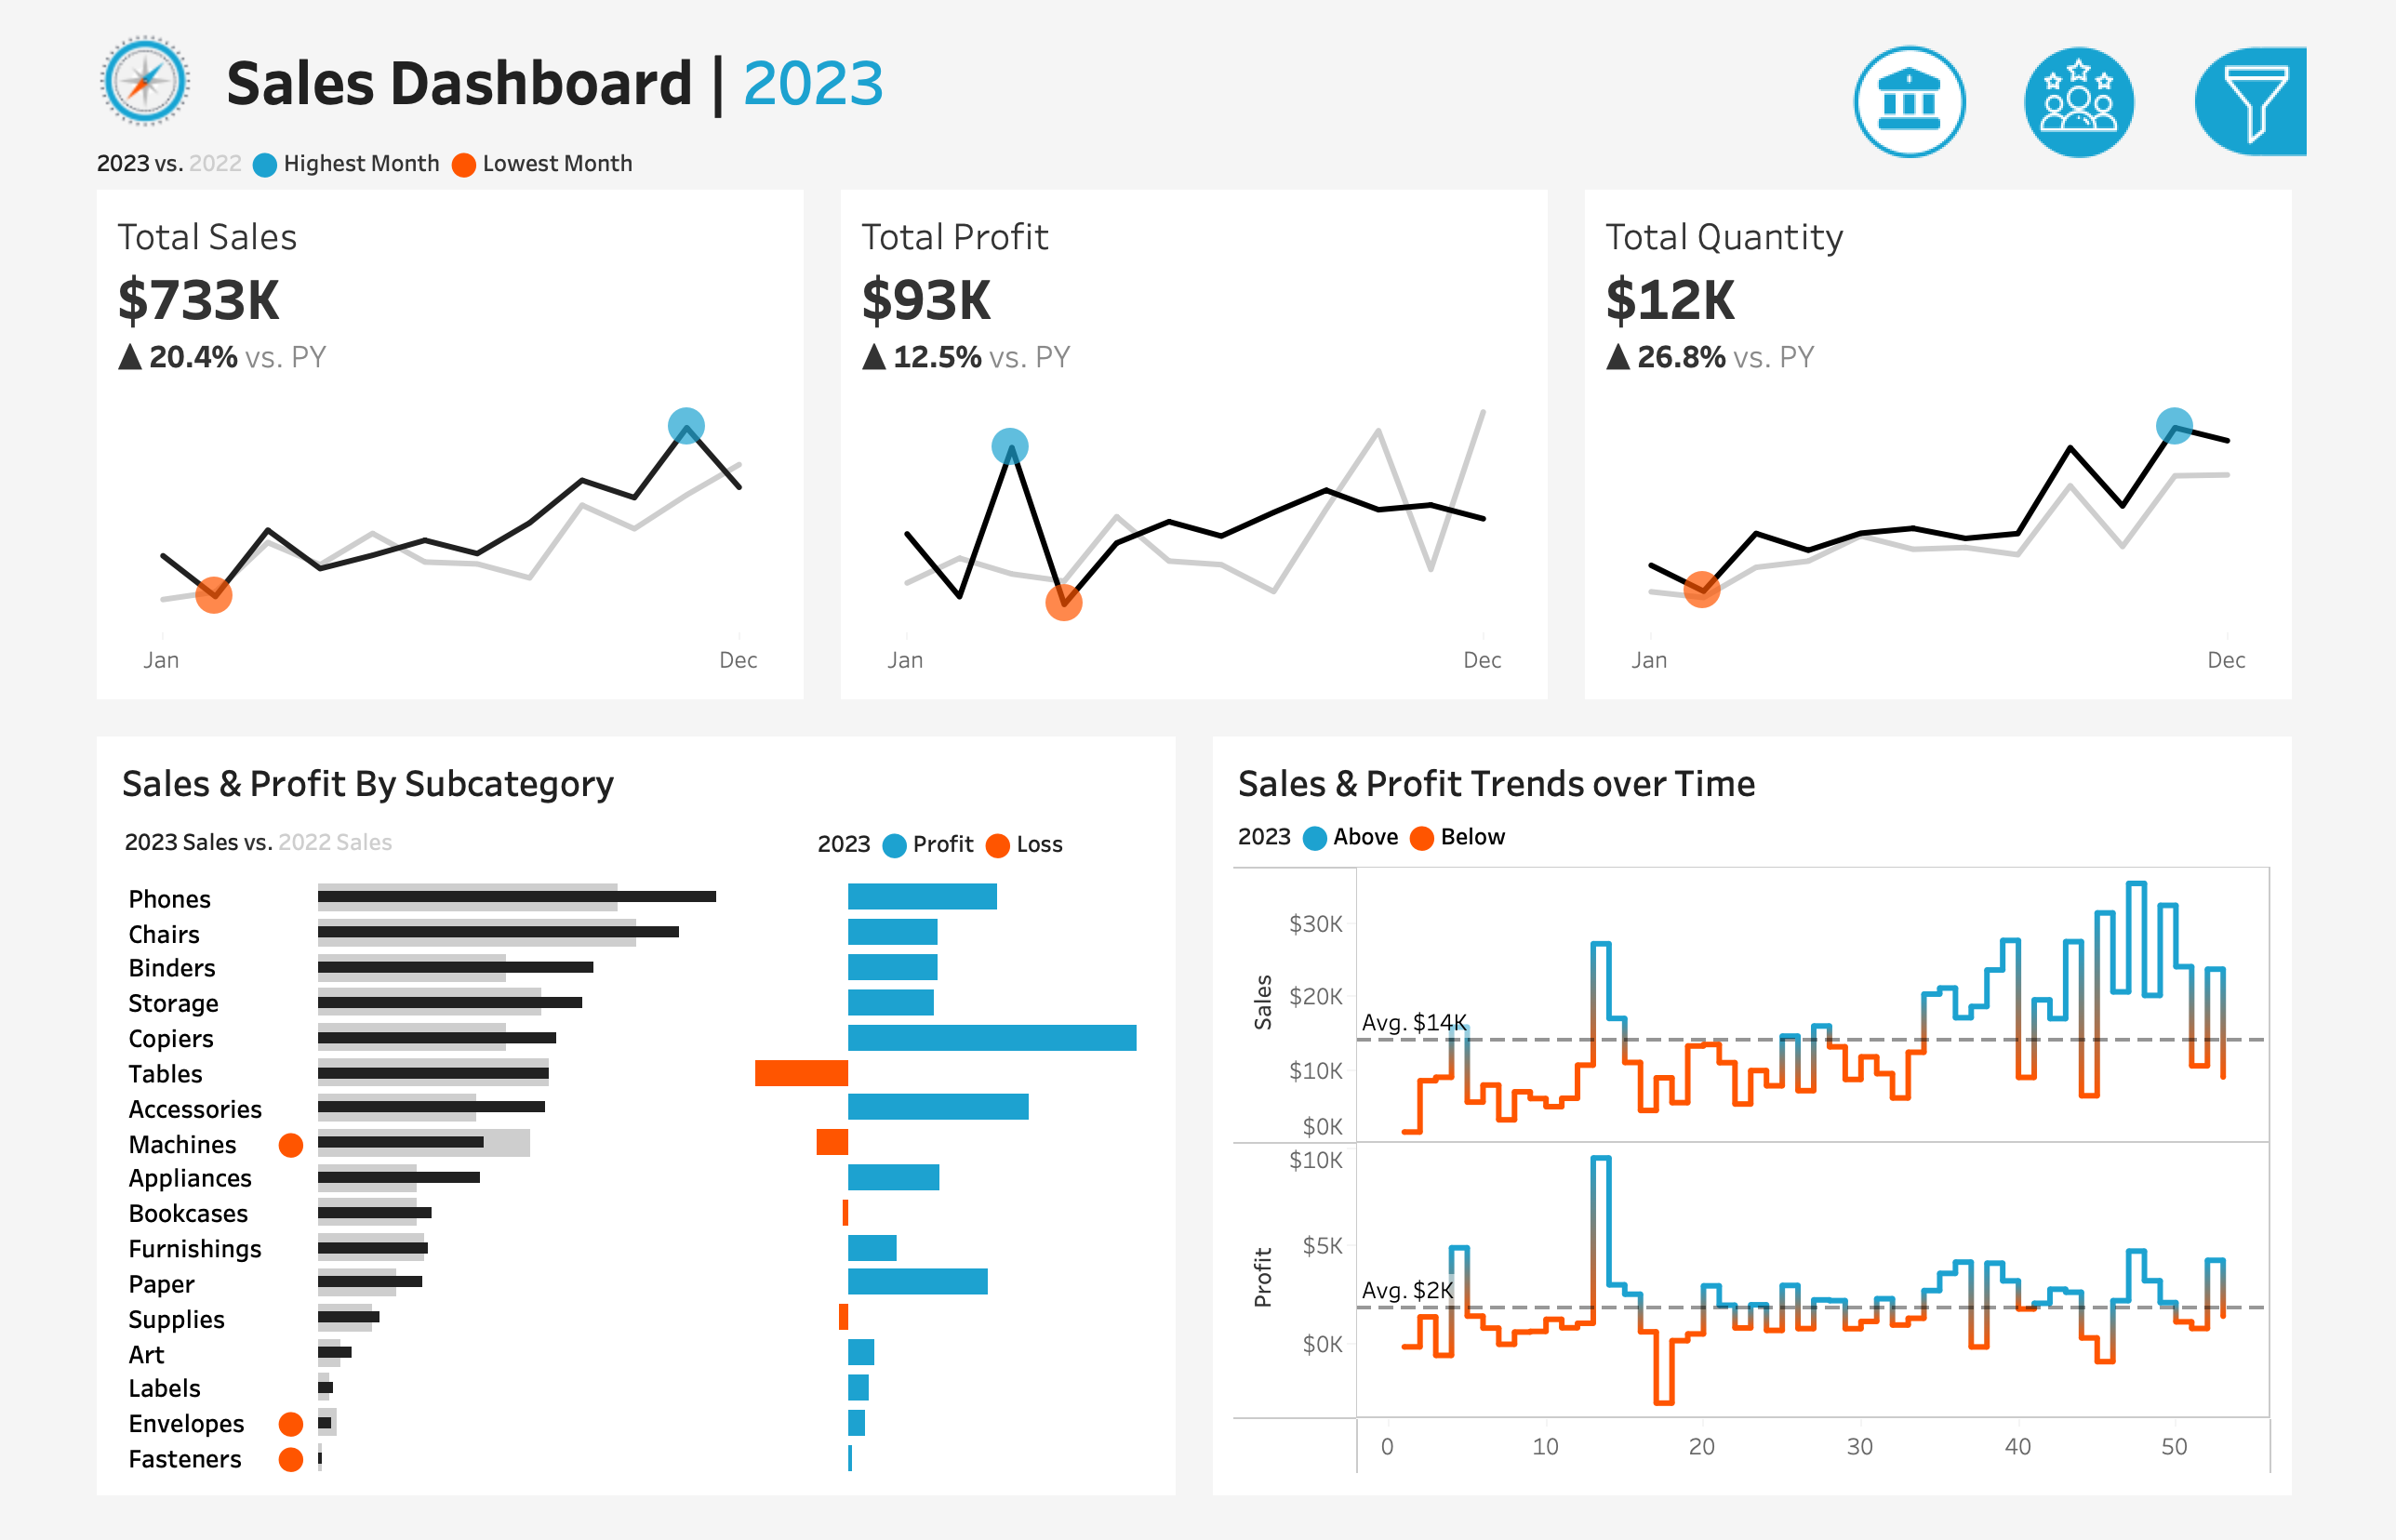

What the dashboard file says about the page in this screenshot:
{"tool":"tableau","page":{"name":"Sales Dashboard","canvas":[1200,800],"ordinal":1},"visuals":[{"type":"image","param":"Image/Icon - Logo.png","box":[0,0,73,59]},{"type":"text","box":[73,0,820,59]},{"type":"dashboard-object","box":[940,6,91,70]},{"type":"dashboard-object","box":[1031,6,91,70]},{"type":"blank","box":[952,10,237,86]},{"type":"worksheet","title":"Legend KPI","mark":"Automatic","box":[0,59,1200,29]},{"type":"worksheet","title":"KPI Sales","mark":"Automatic","rows":["Calculation_721701895347843083"],"cols":["Order Date"],"box":[0,88,400,284]},{"type":"worksheet","title":"KPI Profit","mark":"Automatic","rows":["Min/Max Sales (copy)_237846410425847814"],"cols":["Order Date"],"box":[400,88,400,284]},{"type":"worksheet","title":"KPI Quantity","mark":"Automatic","rows":["Min/Max Sales (copy) (copy)_237846410425856007"],"cols":["Order Date"],"box":[800,88,400,284]},{"type":"text","box":[952,96,237,34]},{"type":"parameter","param":"[Parameters].[Parameter 1]","box":[952,130,237,52]},{"type":"text","box":[952,182,237,29]},{"type":"filter","title":"KPI Sales","param":"[federated.1kpxa041aiai2y1cl4pui1t4eju9].[none:Category:nk]","box":[952,211,237,52]},{"type":"filter","title":"KPI Sales","param":"[federated.1kpxa041aiai2y1cl4pui1t4eju9].[none:Sub-Category:nk]","box":[952,263,237,52]},{"type":"blank","box":[952,315,237,60]},{"type":"text","box":[952,375,237,29]},{"type":"text","box":[17,389,566,34]},{"type":"text","box":[617,389,566,34]},{"type":"filter","title":"KPI Sales","param":"[federated.1kpxa041aiai2y1cl4pui1t4eju9].[none:Region:nk]","box":[952,404,237,52]},{"type":"worksheet","title":"Legend Subcategory","mark":"Automatic","box":[17,423,374,32]},{"type":"text","box":[391,423,192,32]},{"type":"text","box":[617,423,566,25]},{"type":"worksheet","title":"Weekly Trends","mark":"Automatic","rows":["Calculation_721701895334993921","CY Sales (copy)_237846410424180736"],"cols":["Order Date"],"box":[617,448,566,335]},{"type":"worksheet","title":"Subcategory Comparison","mark":"Bar","rows":["Sub-Category","Calculation_2435040078806671369"],"cols":["CY Sales (copy)_721701895335804930","Calculation_721701895334993921","CY Sales (copy)_237846410424180736"],"box":[17,455,566,327.9]},{"type":"filter","title":"KPI Sales","param":"[federated.1kpxa041aiai2y1cl4pui1t4eju9].[none:State:nk]","box":[952,456,237,52]},{"type":"filter","title":"KPI Sales","param":"[federated.1kpxa041aiai2y1cl4pui1t4eju9].[none:City:nk]","box":[952,508,237,52]}]}

Visuals, with their boxes on the page's 1200x800 design canvas (x1, y1, x2, y2). These are canvas units, not pixel positions in the 2396x1540 screenshot, which may show the page scaled, cropped or inside an application window:
image: {"left": 0, "top": 0, "right": 73, "bottom": 59}
text: {"left": 73, "top": 0, "right": 893, "bottom": 59}
dashboard-object: {"left": 940, "top": 6, "right": 1031, "bottom": 76}
dashboard-object: {"left": 1031, "top": 6, "right": 1122, "bottom": 76}
blank: {"left": 952, "top": 10, "right": 1189, "bottom": 96}
"Legend KPI" worksheet: {"left": 0, "top": 59, "right": 1200, "bottom": 88}
"KPI Sales" worksheet: {"left": 0, "top": 88, "right": 400, "bottom": 372}
"KPI Profit" worksheet: {"left": 400, "top": 88, "right": 800, "bottom": 372}
"KPI Quantity" worksheet: {"left": 800, "top": 88, "right": 1200, "bottom": 372}
text: {"left": 952, "top": 96, "right": 1189, "bottom": 130}
parameter: {"left": 952, "top": 130, "right": 1189, "bottom": 182}
text: {"left": 952, "top": 182, "right": 1189, "bottom": 211}
"KPI Sales" filter: {"left": 952, "top": 211, "right": 1189, "bottom": 263}
"KPI Sales" filter: {"left": 952, "top": 263, "right": 1189, "bottom": 315}
blank: {"left": 952, "top": 315, "right": 1189, "bottom": 375}
text: {"left": 952, "top": 375, "right": 1189, "bottom": 404}
text: {"left": 17, "top": 389, "right": 583, "bottom": 423}
text: {"left": 617, "top": 389, "right": 1183, "bottom": 423}
"KPI Sales" filter: {"left": 952, "top": 404, "right": 1189, "bottom": 456}
"Legend Subcategory" worksheet: {"left": 17, "top": 423, "right": 391, "bottom": 455}
text: {"left": 391, "top": 423, "right": 583, "bottom": 455}
text: {"left": 617, "top": 423, "right": 1183, "bottom": 448}
"Weekly Trends" worksheet: {"left": 617, "top": 448, "right": 1183, "bottom": 783}
"Subcategory Comparison" worksheet (Bar marks): {"left": 17, "top": 455, "right": 583, "bottom": 783}
"KPI Sales" filter: {"left": 952, "top": 456, "right": 1189, "bottom": 508}
"KPI Sales" filter: {"left": 952, "top": 508, "right": 1189, "bottom": 560}
